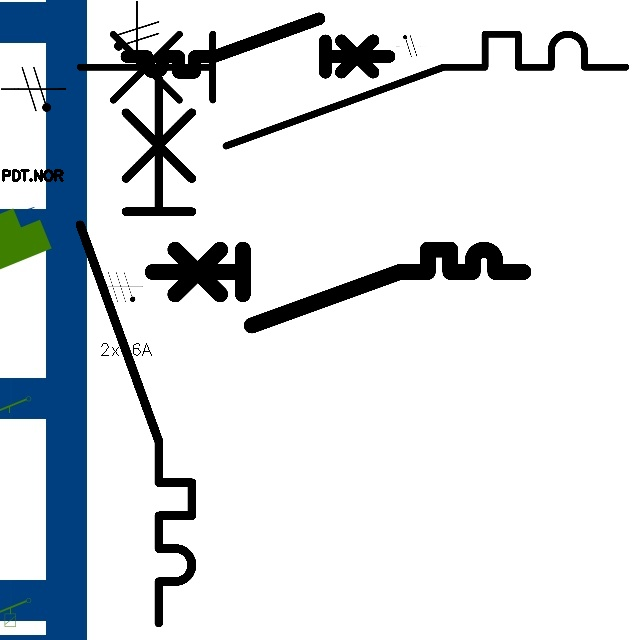interruptor_termomagnetico: (65, 20, 639, 160), (66, 65, 206, 636), (143, 240, 533, 335), (120, 12, 396, 79)
